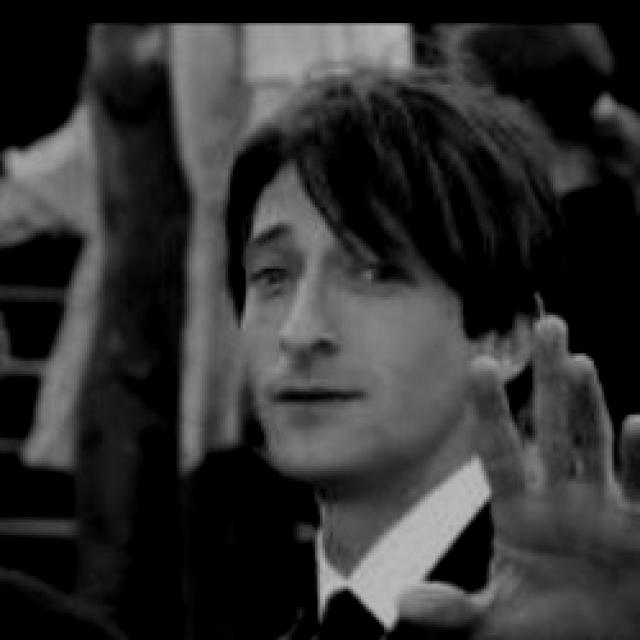real: (243, 122, 501, 480), (247, 246, 420, 307)
